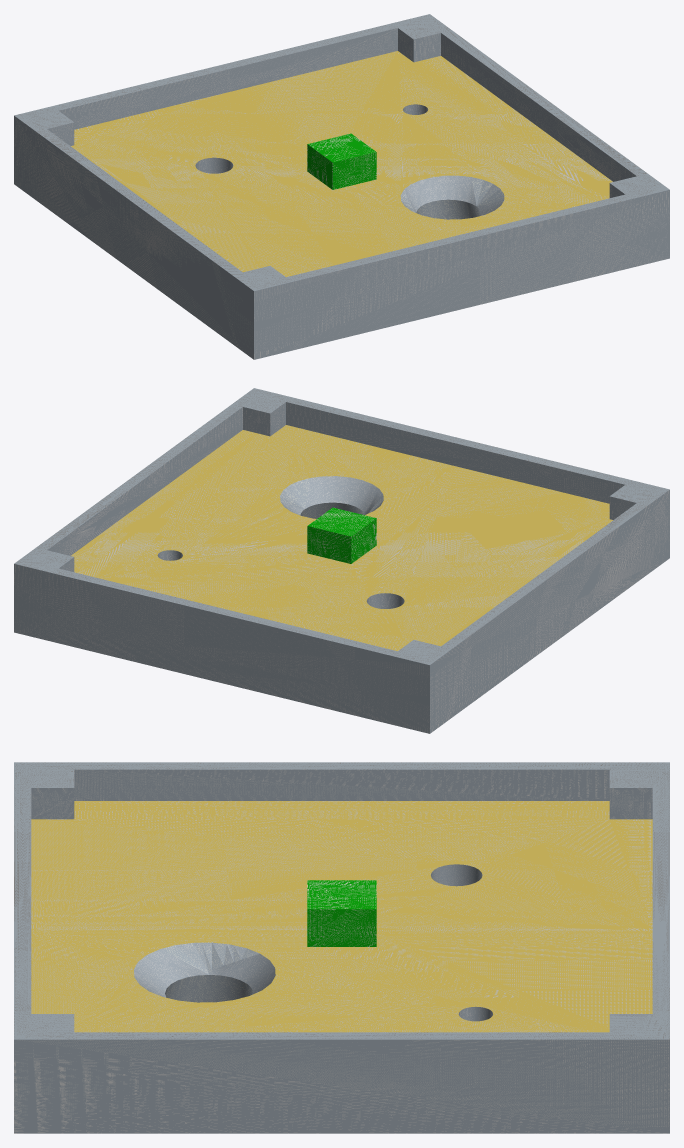
3 views of the same model, one above another, from view 1: azimuth 30°, elevation 25°; view 2: azimuth 150°, elevation 25°; view 3: azimuth 270°, elevation 25° (orthographic). The views are drawn at different scales.
Visible parts, largest first — view 1: SketchUp_016, SketchUp, SketchUp_019, SketchUp_003, SketchUp_017, SketchUp_014, SketchUp_007, SketchUp_012, SketchUp_005, SketchUp_009; view 2: SketchUp_016, SketchUp, SketchUp_019, SketchUp_002, SketchUp_017, SketchUp_014, SketchUp_008, SketchUp_015, SketchUp_009, SketchUp_012; view 3: SketchUp_016, SketchUp, SketchUp_019, SketchUp_001, SketchUp_014, SketchUp_012, SketchUp_008, SketchUp_011, SketchUp_006, SketchUp_004, SketchUp_007, SketchUp_013.
Boxes of the visible parts, x1,y1,x2,y2 form: SketchUp_016: [71, 51, 612, 277]; SketchUp: [14, 116, 669, 359]; SketchUp_019: [14, 14, 669, 290]; SketchUp_003: [59, 28, 397, 129]; SketchUp_017: [441, 33, 636, 181]; SketchUp_014: [307, 133, 376, 189]; SketchUp_007: [404, 175, 476, 212]; SketchUp_012: [416, 199, 480, 219]; SketchUp_005: [398, 28, 440, 62]; SketchUp_009: [471, 177, 504, 206]; SketchUp_016: [71, 425, 612, 651]; SketchUp: [14, 490, 669, 733]; SketchUp_019: [14, 388, 669, 664]; SketchUp_002: [286, 402, 624, 503]; SketchUp_017: [47, 407, 242, 555]; SketchUp_014: [307, 507, 376, 563]; SketchUp_008: [304, 476, 383, 514]; SketchUp_015: [243, 402, 285, 436]; SketchUp_009: [280, 478, 310, 509]; SketchUp_012: [300, 502, 364, 518]; SketchUp_016: [31, 801, 652, 1032]; SketchUp: [14, 1039, 669, 1133]; SketchUp_019: [14, 762, 669, 1039]; SketchUp_001: [74, 769, 609, 800]; SketchUp_014: [307, 880, 376, 946]; SketchUp_012: [165, 975, 253, 1002]; SketchUp_008: [134, 949, 208, 997]; SketchUp_011: [160, 942, 259, 974]; SketchUp_006: [609, 788, 652, 819]; SketchUp_004: [31, 788, 74, 819]; SketchUp_007: [209, 953, 275, 993]; SketchUp_013: [431, 864, 482, 886].
Size of the model in its own units: 57.91 by 9.75 by 57.91.
